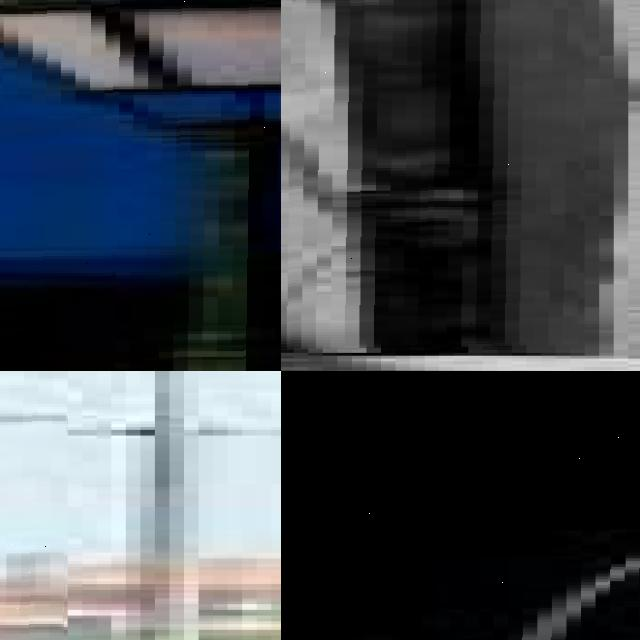street light: (281, 0, 584, 353), (0, 0, 281, 371), (281, 371, 640, 640), (0, 371, 281, 640), (140, 371, 281, 640), (513, 400, 640, 640), (0, 371, 67, 640)
